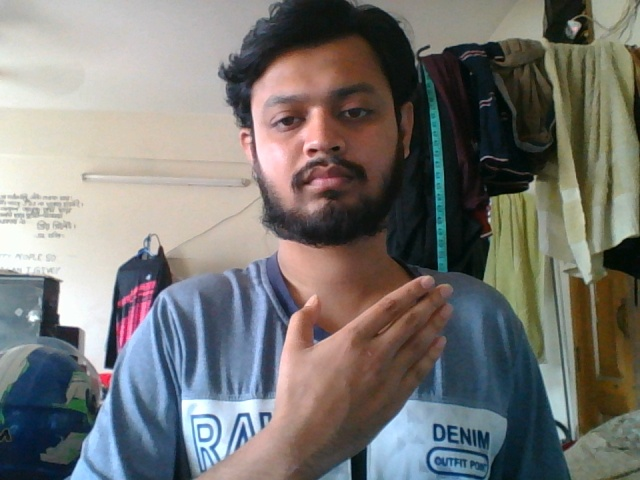ami: (234, 273, 461, 464)
